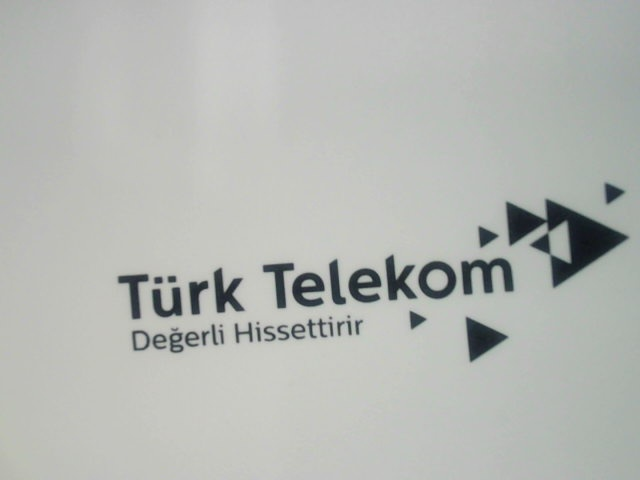AQ_TURKTelekom: (105, 182, 630, 367)
